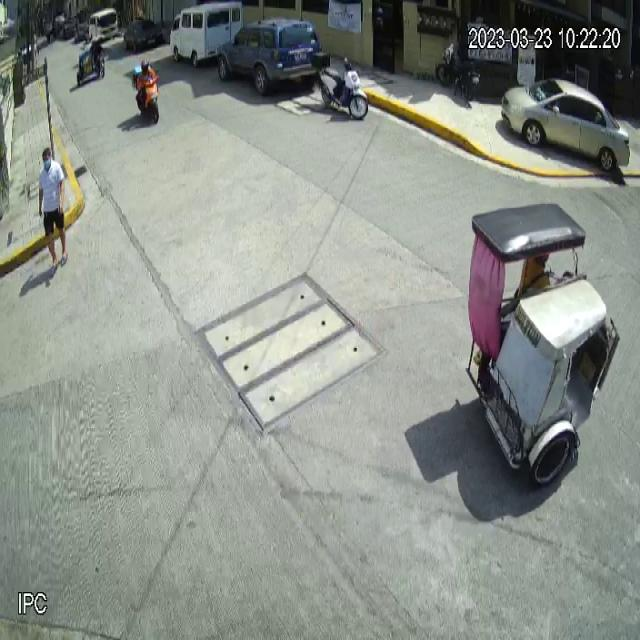Car: (502, 76, 630, 175), (218, 16, 323, 95)
Motorcycle: (312, 52, 369, 120), (134, 68, 161, 126)
Tricycle: (466, 203, 621, 487)
